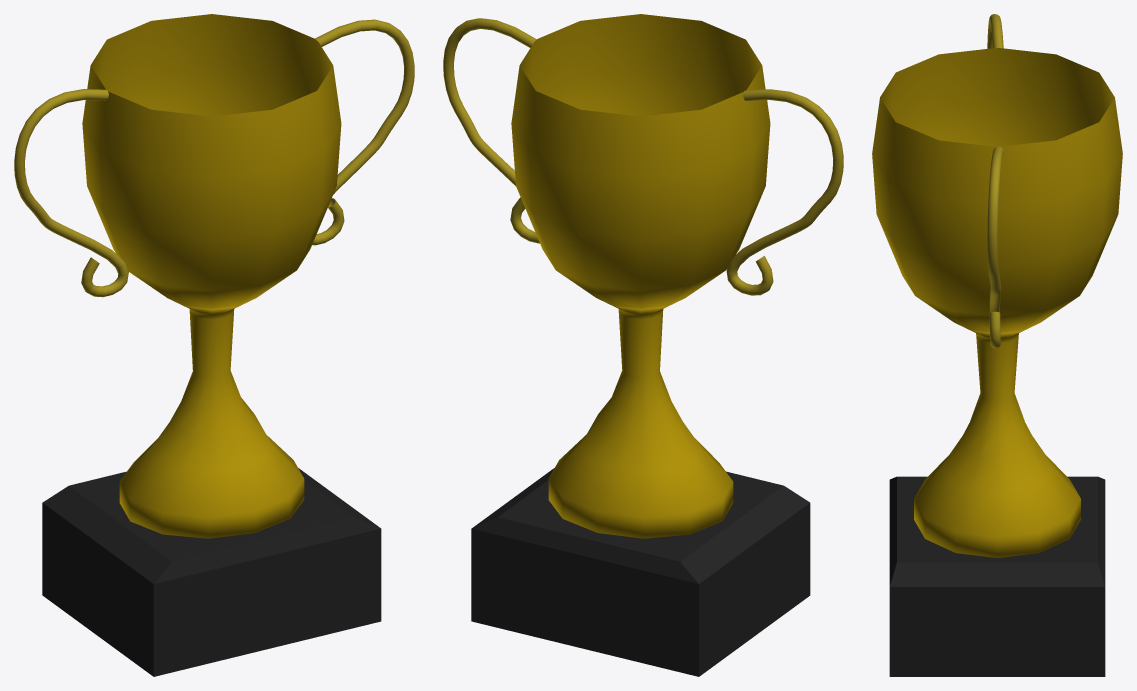
File: Trophy2.glb
3 views of the same model, side by side, from view 1: azimuth 30°, elevation 25°; view 2: azimuth 150°, elevation 25°; view 3: azimuth 270°, elevation 25° (orthographic). The views are drawn at different scales.
Parts seen in each view (by area): view 1: Cylinder, Cube, BezierCurve; view 2: Cylinder, Cube, BezierCurve; view 3: Cylinder, Cube, BezierCurve.
Part boxes in pixels (box(x1,y1,x2,y2)): Cylinder: box(82, 14, 341, 538); Cube: box(42, 468, 381, 676); BezierCurve: box(14, 19, 414, 297); Cylinder: box(511, 14, 770, 538); Cube: box(471, 468, 810, 676); BezierCurve: box(443, 18, 843, 295); Cylinder: box(872, 48, 1122, 558); Cube: box(889, 476, 1105, 676); BezierCurve: box(987, 14, 1003, 348).
Size of the model in its own units: 8.22 by 10.86 by 4.62.
3 materials, 2 textured.
